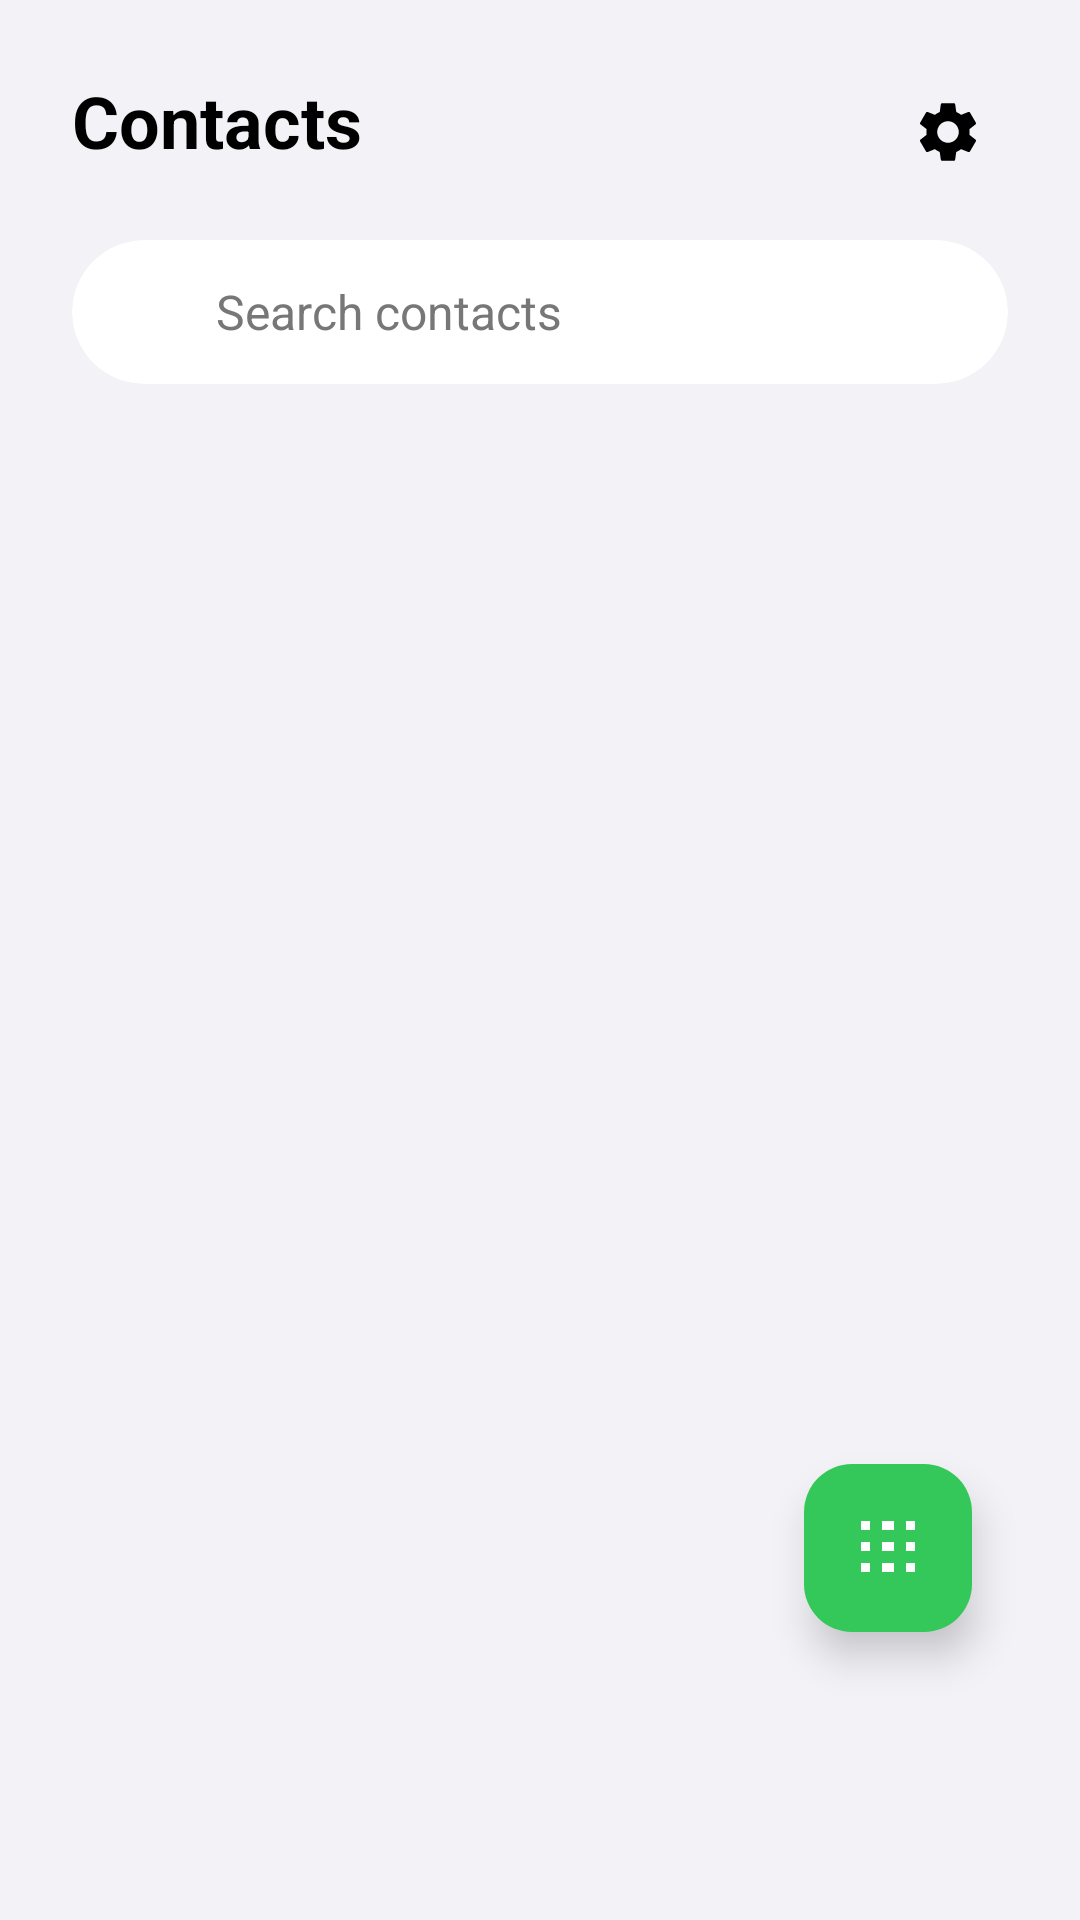

Icon click points for this 1080×1920 phone screenshot, format (x,y):
keypad: (888,1548)
settings: (948,132)
